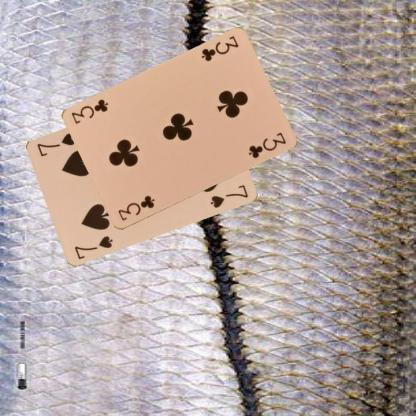3c: (198, 33, 240, 63), (115, 193, 156, 222)
7s: (72, 233, 115, 260)
